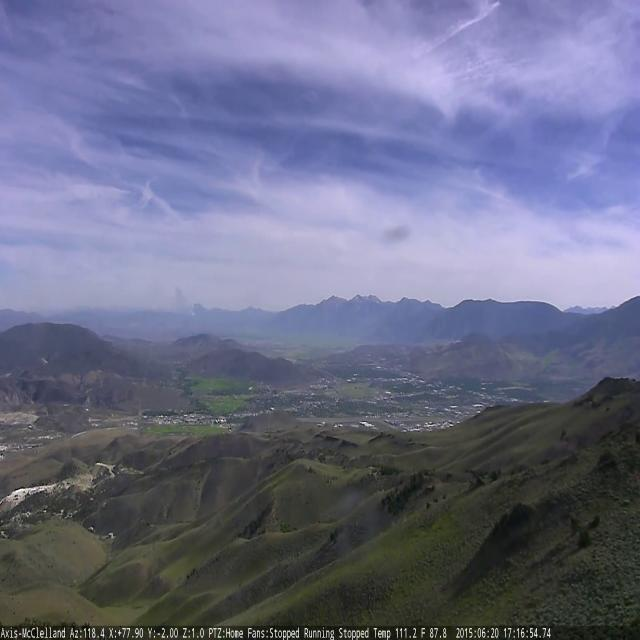smoke: (156, 283, 194, 316)
